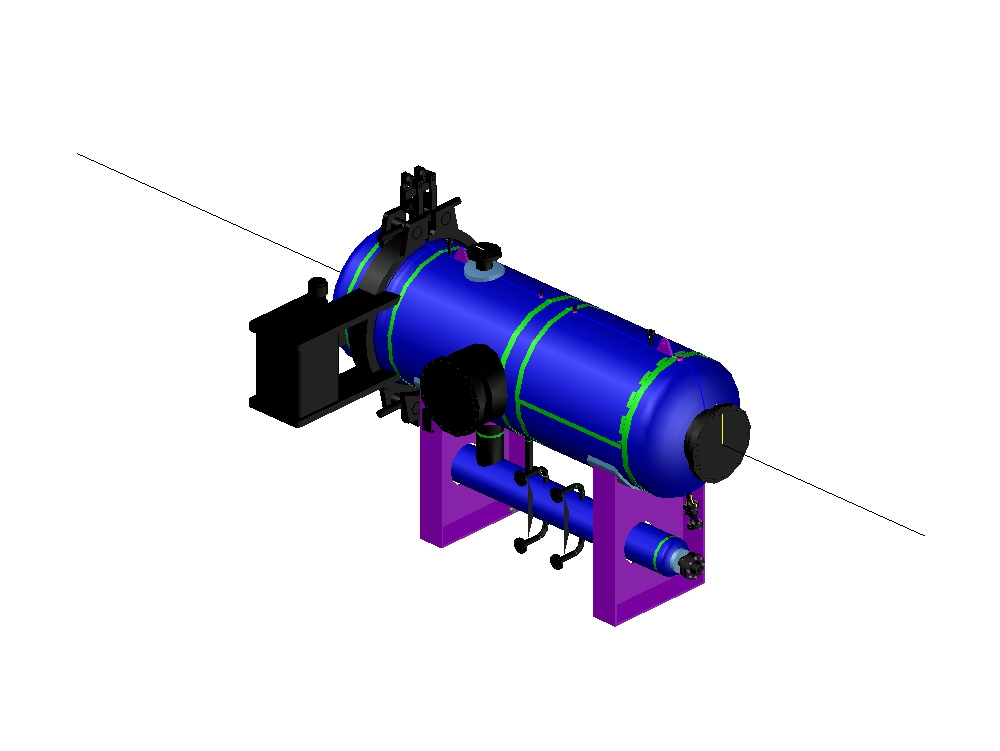nozzle: (456, 229, 505, 287)
